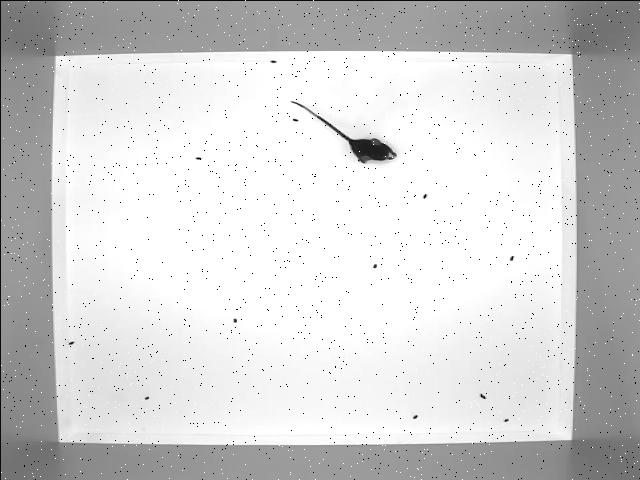Tikus: (284, 94, 404, 168)
